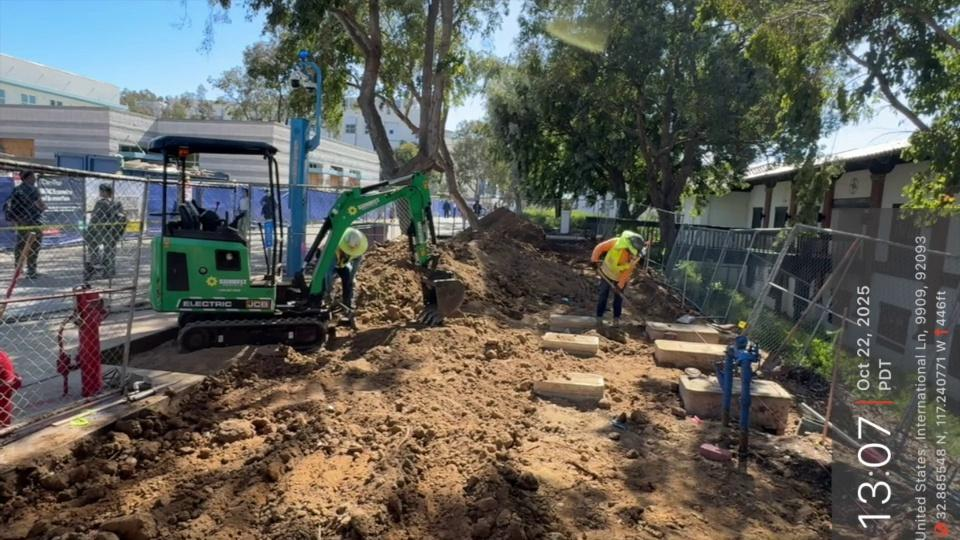Exacavator: (134, 136, 496, 381)
